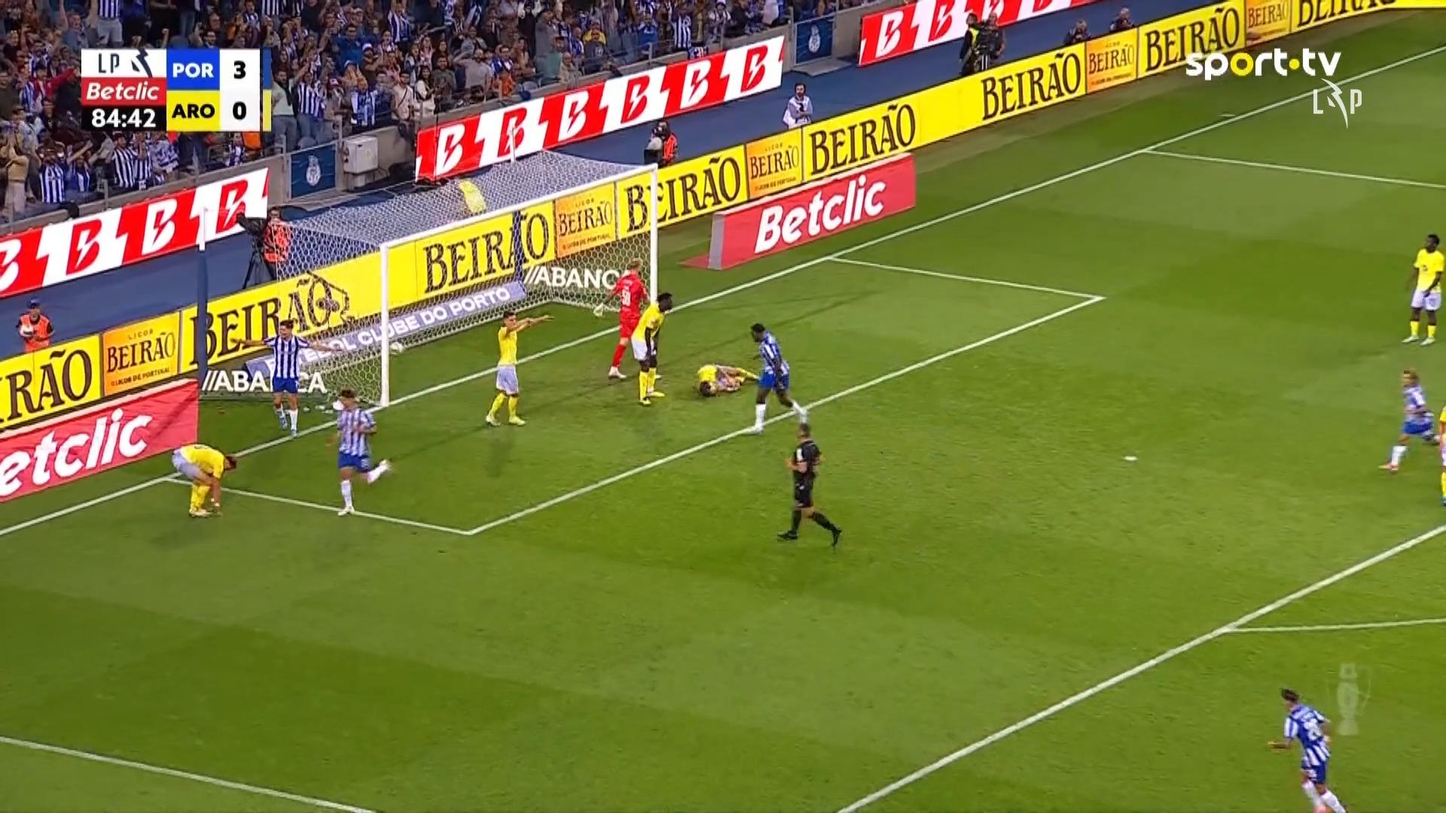ball: (389, 342, 404, 357)
goalkeeper: (592, 257, 650, 380)
player: (233, 318, 342, 437), (1265, 686, 1347, 811), (324, 387, 393, 516), (484, 309, 554, 427), (747, 321, 809, 434), (1377, 367, 1440, 472), (170, 442, 236, 518), (629, 291, 673, 405), (1400, 233, 1444, 346), (694, 363, 759, 397), (1426, 403, 1445, 505)
referee: (776, 422, 842, 548)
